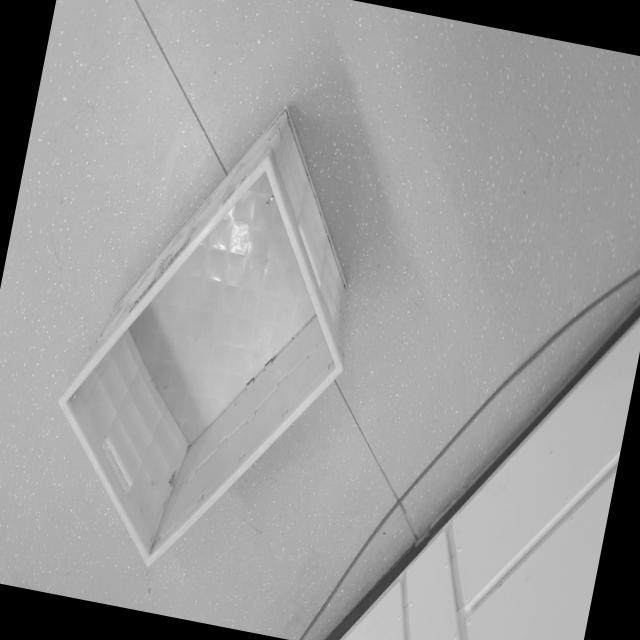box: (26, 45, 402, 610)
